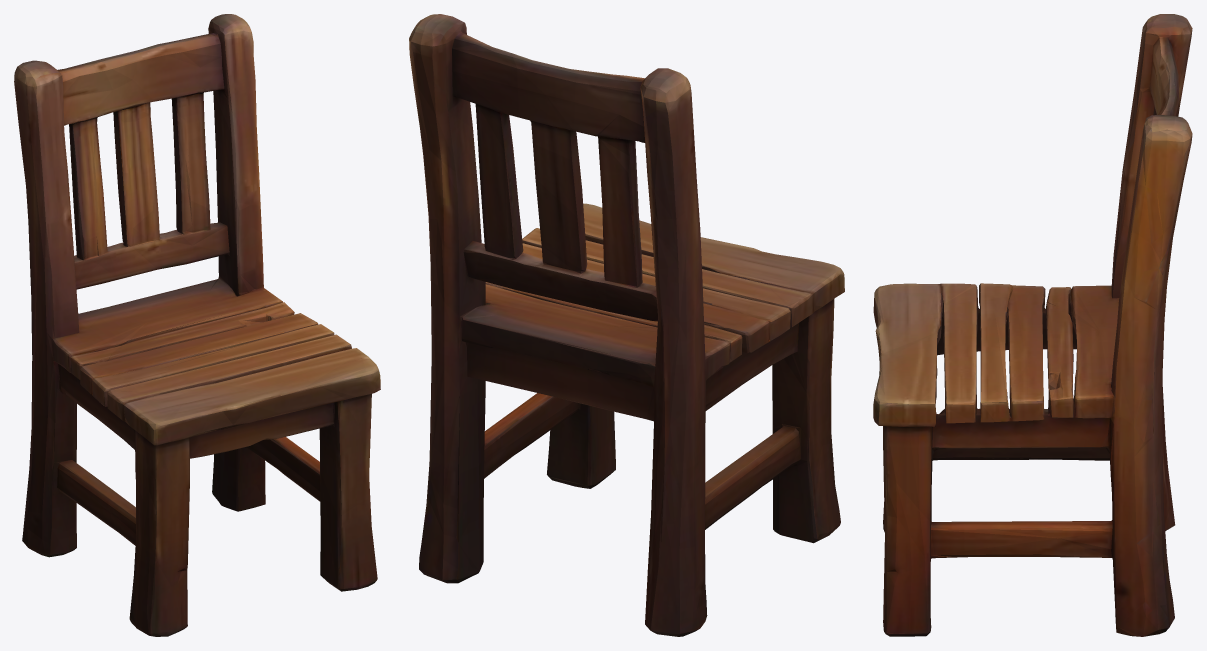
The model's file is chair.glb.
3 renders of one model, left to right at view 1: azimuth 30°, elevation 25°; view 2: azimuth 150°, elevation 25°; view 3: azimuth 270°, elevation 25°, orthographic. The views are drawn at different scales.
Parts seen in each view (by area): view 1: geometry_0; view 2: geometry_0; view 3: geometry_0.
Part boxes in pixels (box(x1,y1,x2,y2)): geometry_0: box(14, 14, 380, 636); geometry_0: box(409, 14, 844, 636); geometry_0: box(873, 14, 1192, 636).
Size of the model in its own units: 0.5127 by 1 by 0.567.
Materials: 1 (1 with a texture image).
